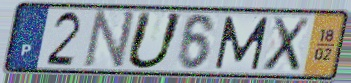2: (45, 10, 84, 68)
6: (175, 12, 220, 72)
M: (213, 14, 272, 71)
N: (80, 9, 139, 72)
U: (122, 10, 187, 72)
X: (260, 15, 313, 73)
